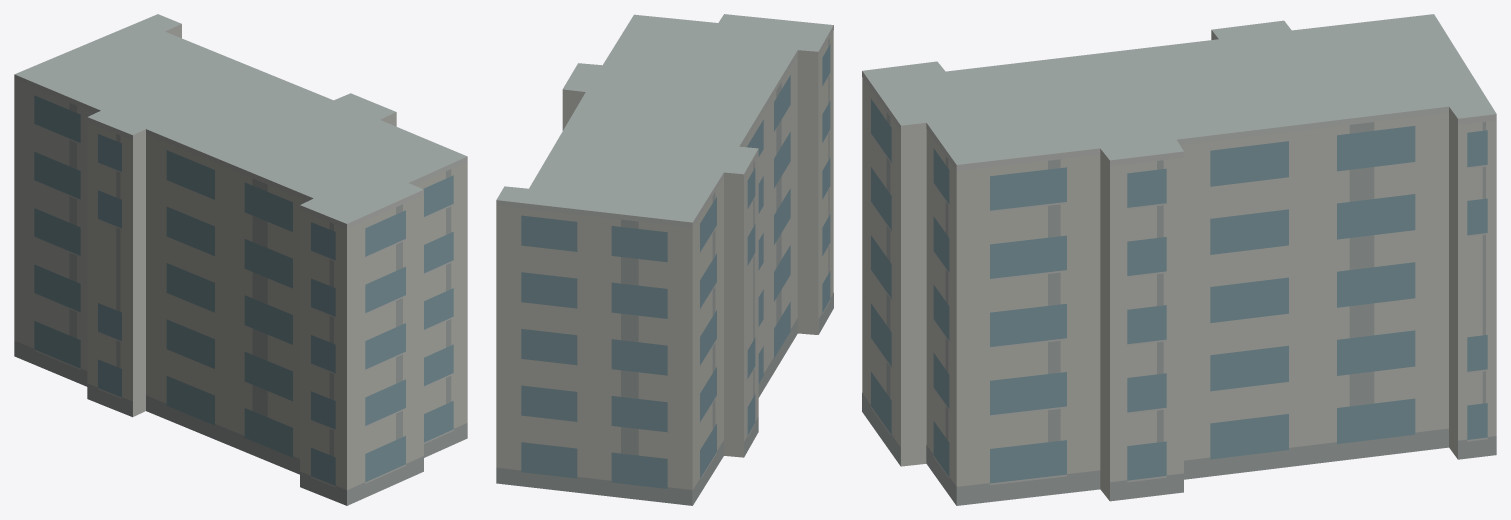
File: survey-upis-32750780.glb
The picture shows the model from 3 angles, left to right: view 1: azimuth 30°, elevation 25°; view 2: azimuth 150°, elevation 25°; view 3: azimuth 270°, elevation 25°; orthographic projection. The views are drawn at different scales.
Visible parts, largest first — view 1: survey-upis-32750780.tmp; view 2: survey-upis-32750780.tmp; view 3: survey-upis-32750780.tmp.
Boxes of the visible parts, box(x1,y1,x2,y2) form: survey-upis-32750780.tmp: box(14, 14, 467, 505); survey-upis-32750780.tmp: box(496, 14, 833, 505); survey-upis-32750780.tmp: box(862, 14, 1496, 505).
Bounding box in the file's own units: 12.54 × 13.2 × 22.28.
